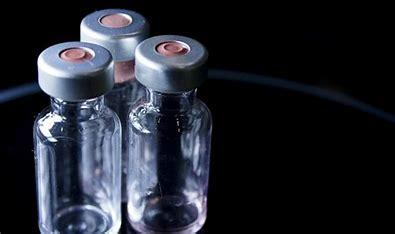Syringe: (30, 39, 124, 234), (127, 33, 216, 231)
